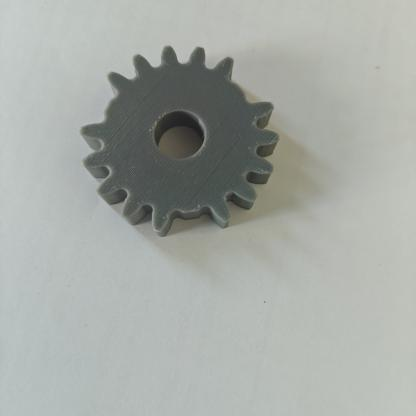defect: (62, 67, 156, 159), (207, 34, 289, 127), (143, 187, 241, 260)
gear: (53, 26, 319, 275)
